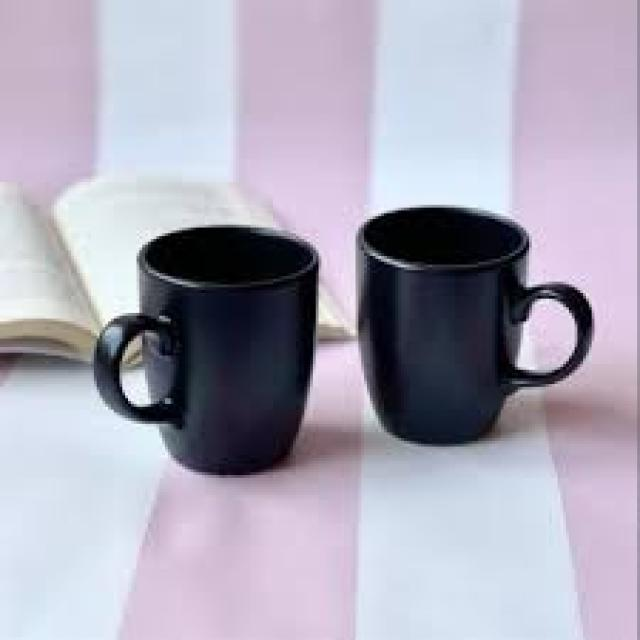taza: (354, 203, 596, 449), (95, 222, 321, 478)
